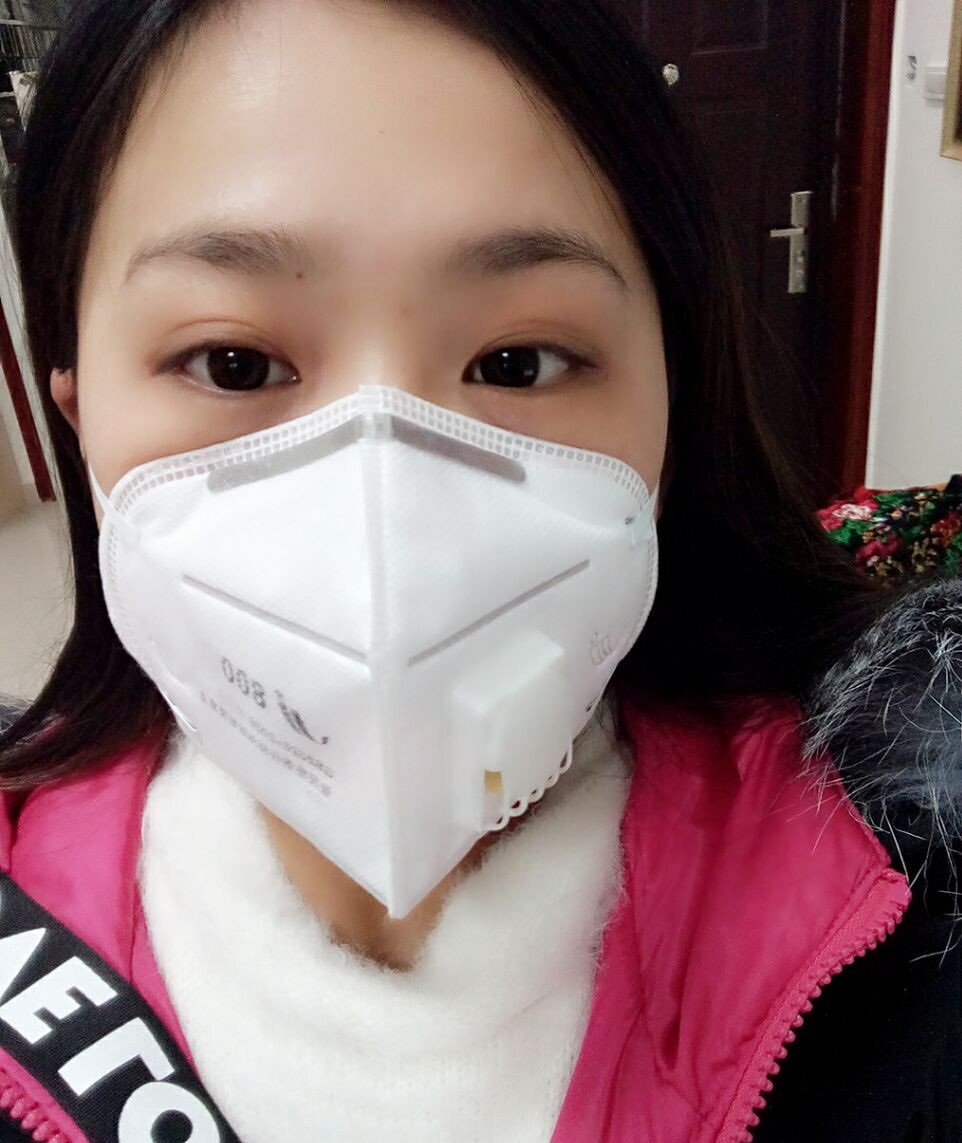face_mask: (89, 22, 654, 890)
